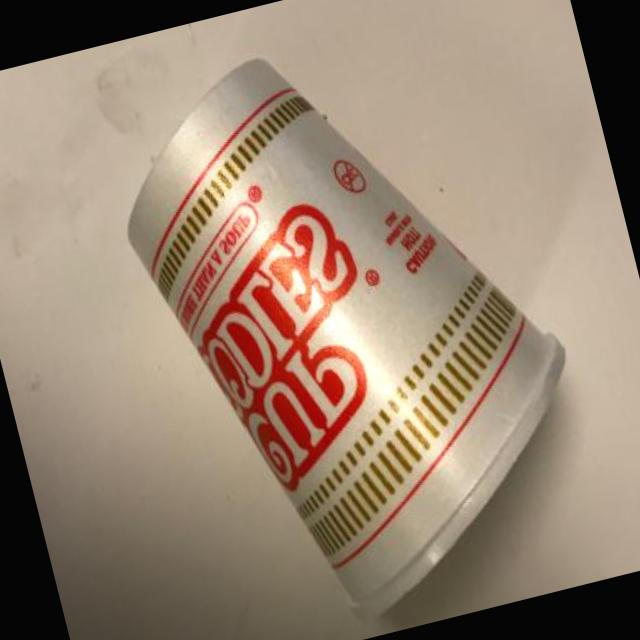ly_hop_giay: (127, 58, 564, 614)
